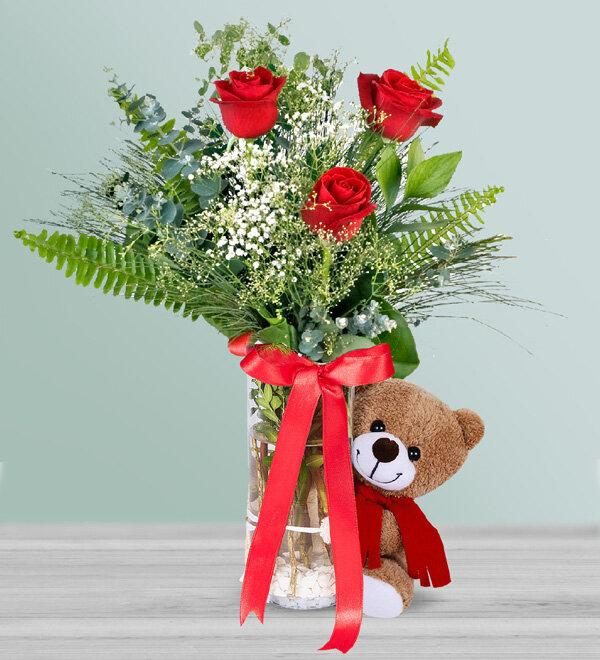Rose: (349, 60, 453, 151), (213, 57, 289, 151), (301, 153, 377, 245)
